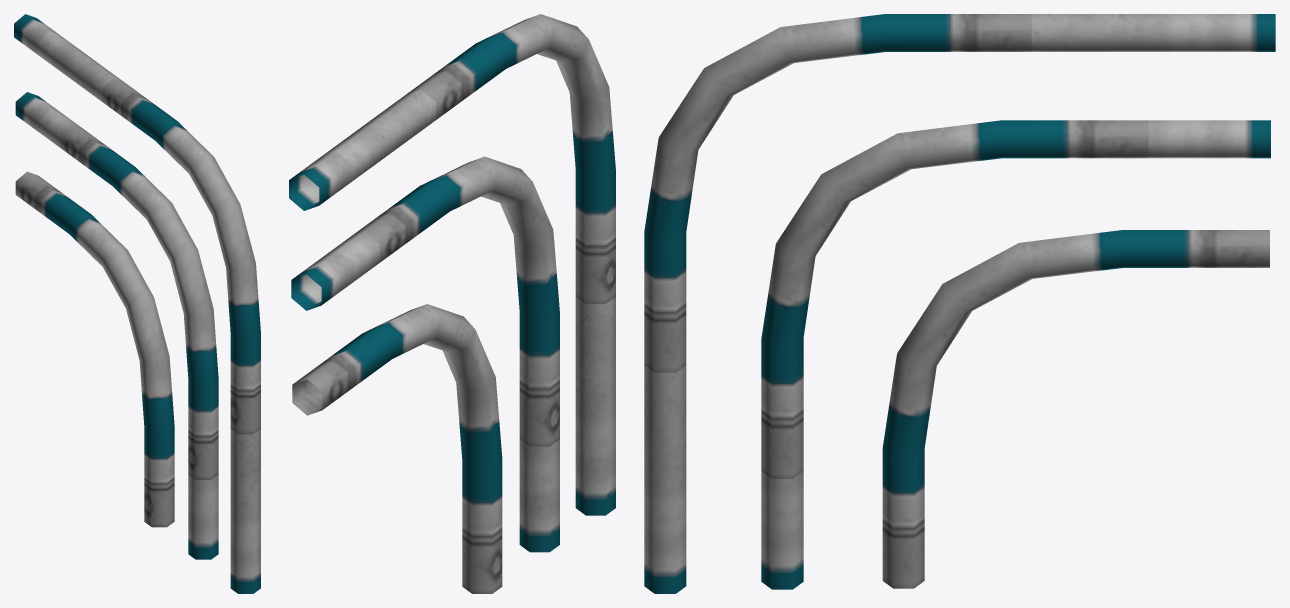
The model's file is CP_Pipe_A_Angle.fbx.
3 views of the same model, side by side, from view 1: azimuth 30°, elevation 25°; view 2: azimuth 150°, elevation 25°; view 3: azimuth 270°, elevation 25° (orthographic). The views are drawn at different scales.
Parts seen in each view (by area): view 1: CP_Pipe_A_Angle; view 2: CP_Pipe_A_Angle; view 3: CP_Pipe_A_Angle.
Boxes of the visible parts, left/top/right/bottom form: CP_Pipe_A_Angle: left=14, top=14, right=260, bottom=593; CP_Pipe_A_Angle: left=289, top=14, right=615, bottom=593; CP_Pipe_A_Angle: left=644, top=14, right=1275, bottom=593.
Size of the model in its own units: 5.04 by 86.2 by 86.2.
